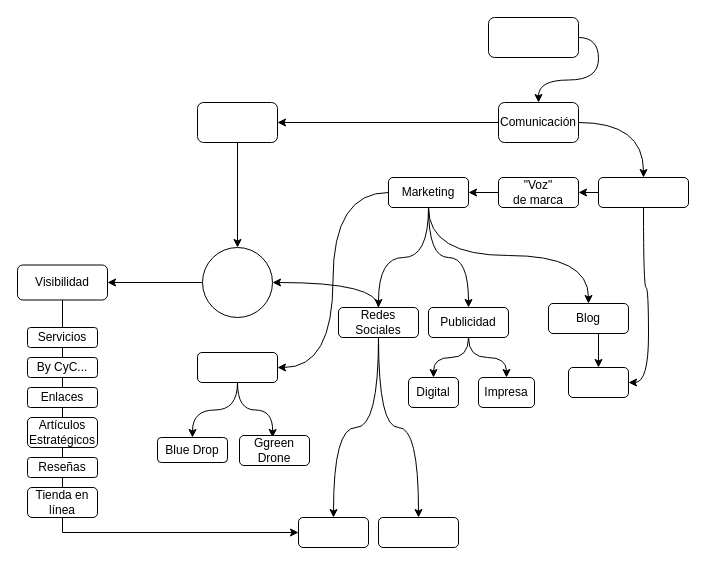
Image size: 706x565. Some labels were removed from this diagram. Here are the shapes that lost their labels. From the top down, the centre of each, then its label:
At (533,37): "Estrategia".
At (237,122): "Identidad".
At (643,192): "Misión/Visión".
At (237,282): "CyC".
At (237,367): "Sitio Web".
At (598,382): "Artículos".
At (333,532): "Contenido".
At (418,532): "Engagement".
